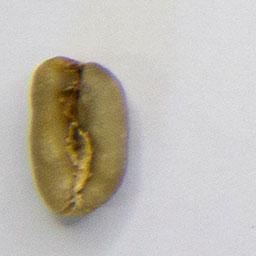longberry: (25, 52, 136, 223)
